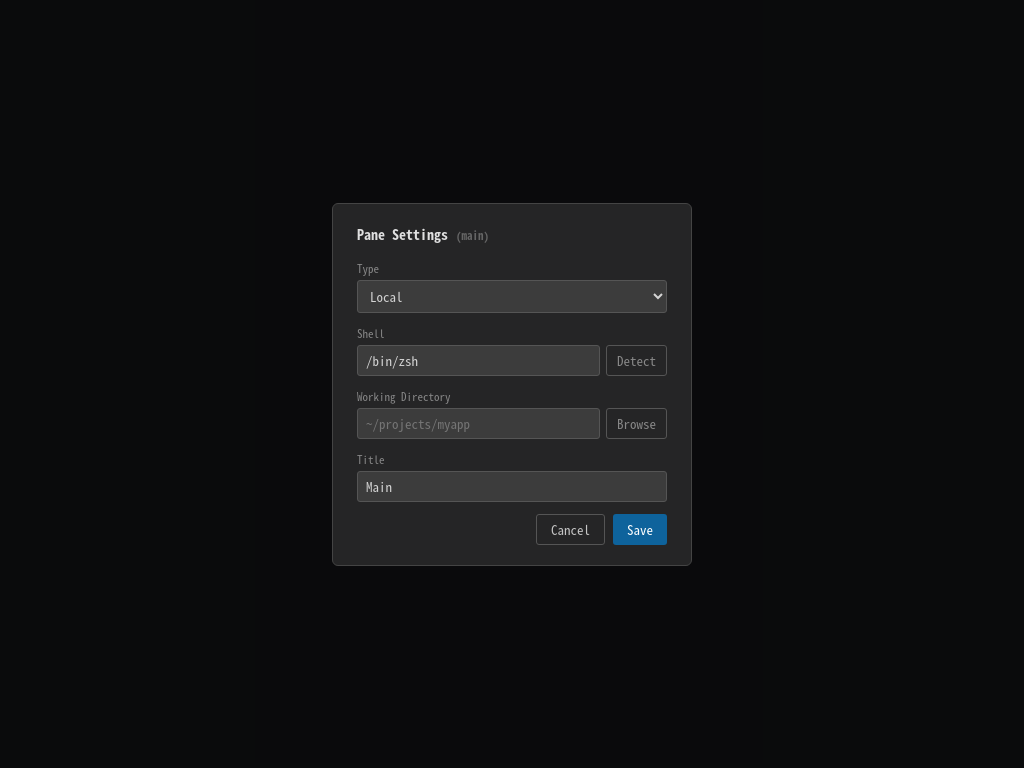
Test: PaneSettingsDialog › shows hidden directories after toggling the visibility option
This screenshot has width=1024, height=768.
Click the button "Browse": (636, 423) 606,408 -> 667,438
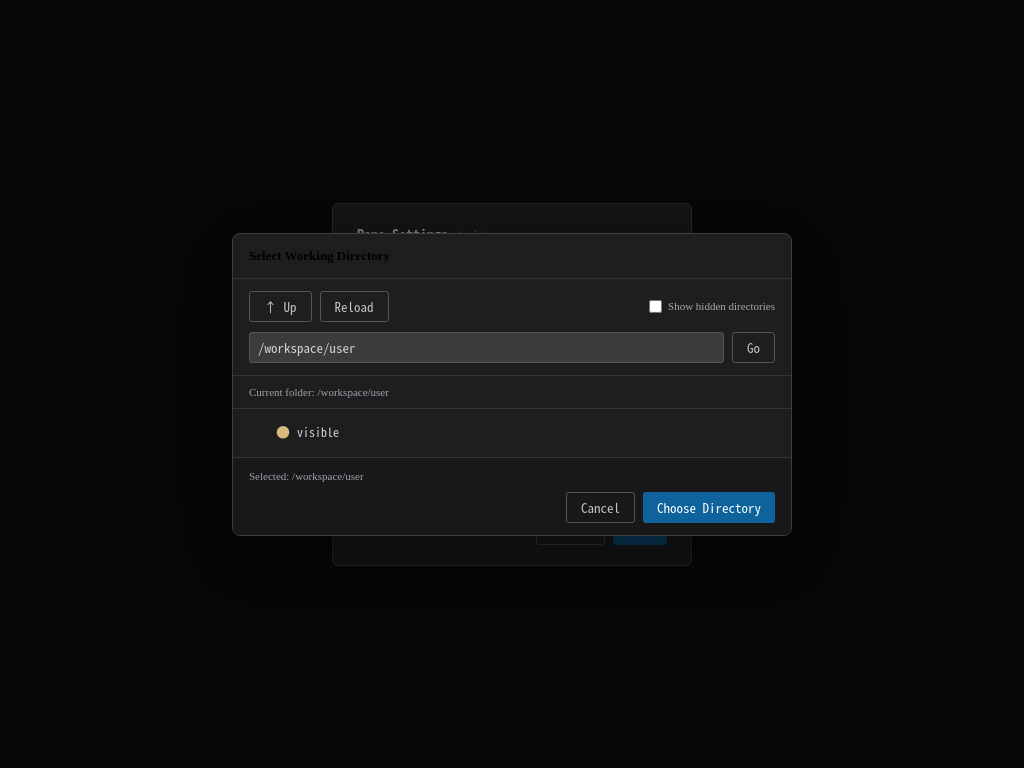
Now the button "● visible" is shown, box 269,416 -> 779,444
Click the checkbox labelled "Show hidden directories": (656, 306) 649,300 -> 662,312
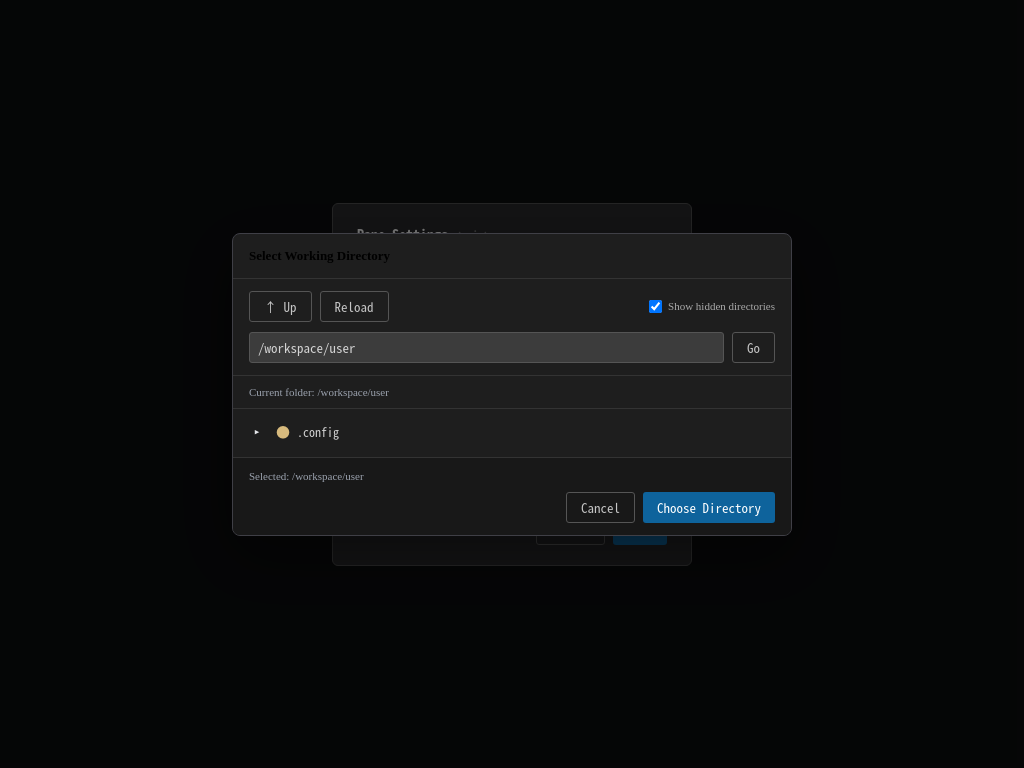
Now the button "● .config" is shown, box 269,416 -> 779,444
